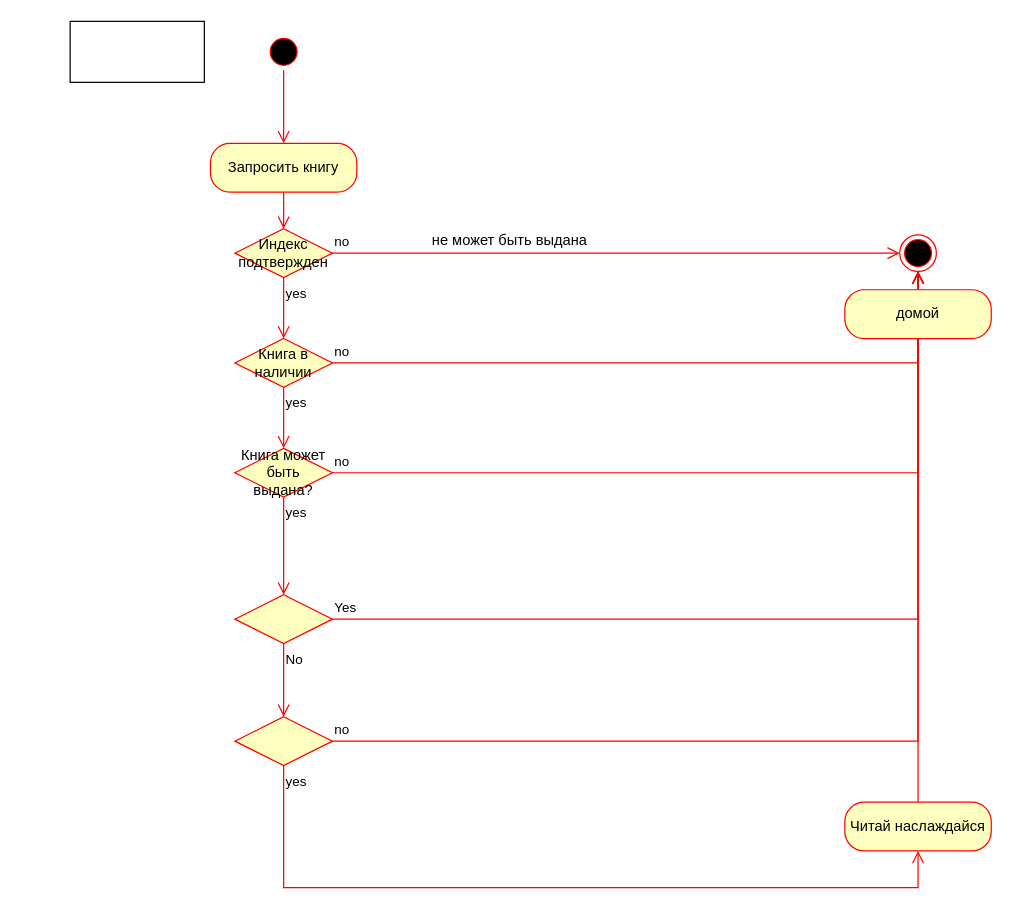
The diagram is 1013 pixels wide and 921 high, and some of its shapes have lost their labels. The box of each missing label's shape, as (x1, y1, x2, y2) in pixels:
диаграмму деятельности (Activity): (69, 20, 204, 82)
Книга на руках ?: (234, 594, 332, 644)
Читать только в читательском зале: (234, 716, 332, 766)
